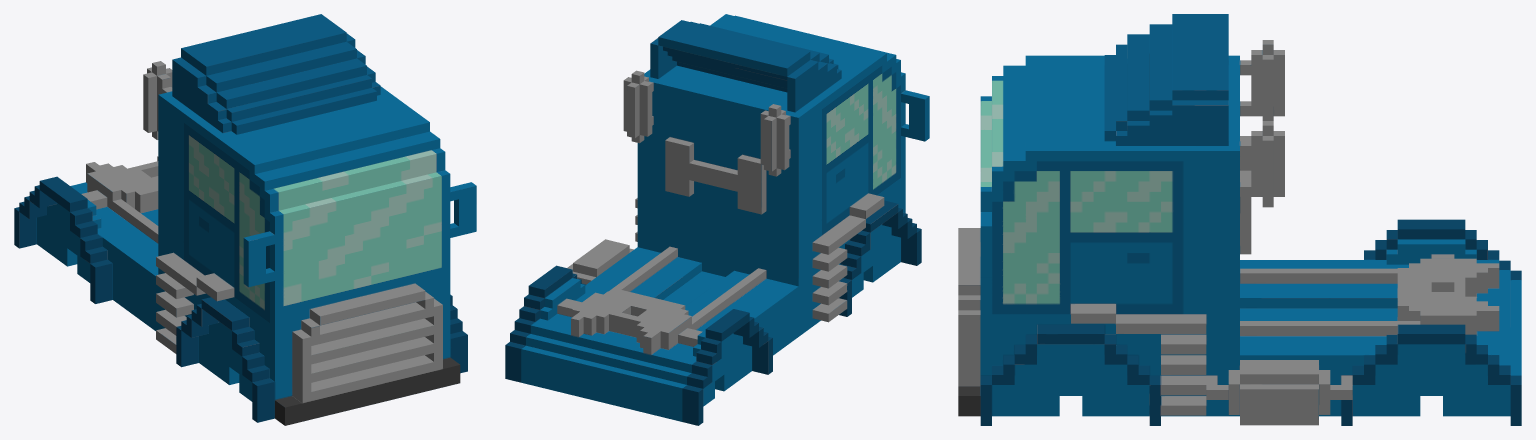
File: Trailer_Var2_3.obj
3 views of the same model, side by side, from view 1: azimuth 30°, elevation 25°; view 2: azimuth 150°, elevation 25°; view 3: azimuth 270°, elevation 25° (orthographic). The views are drawn at different scales.
Parts seen in each view (by area): view 1: Trailer_Var2_3_Trailer_Var2_3.001; view 2: Trailer_Var2_3_Trailer_Var2_3.001; view 3: Trailer_Var2_3_Trailer_Var2_3.001.
Boxes of the visible parts, x1=… form: Trailer_Var2_3_Trailer_Var2_3.001: x1=14, y1=14, x2=476, y2=425; Trailer_Var2_3_Trailer_Var2_3.001: x1=505, y1=14, x2=929, y2=425; Trailer_Var2_3_Trailer_Var2_3.001: x1=958, y1=14, x2=1521, y2=425.
Size of the model in its own units: 2.8 by 3.1 by 5.
